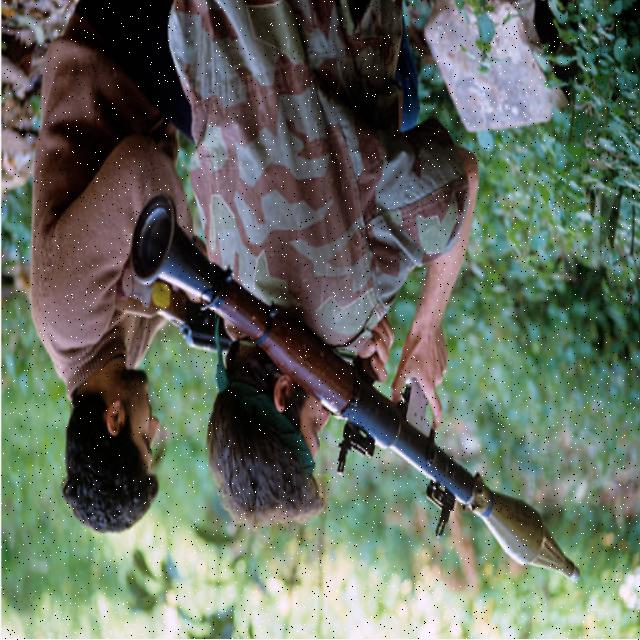bazooka: (124, 190, 586, 592)
